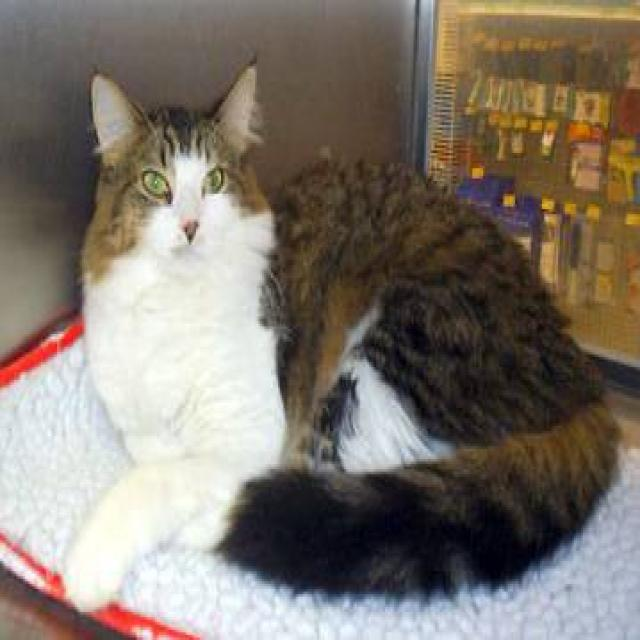cat: (37, 40, 629, 612)
